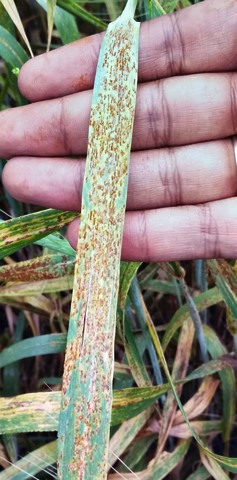Leaf Rust: (65, 36, 152, 421)
